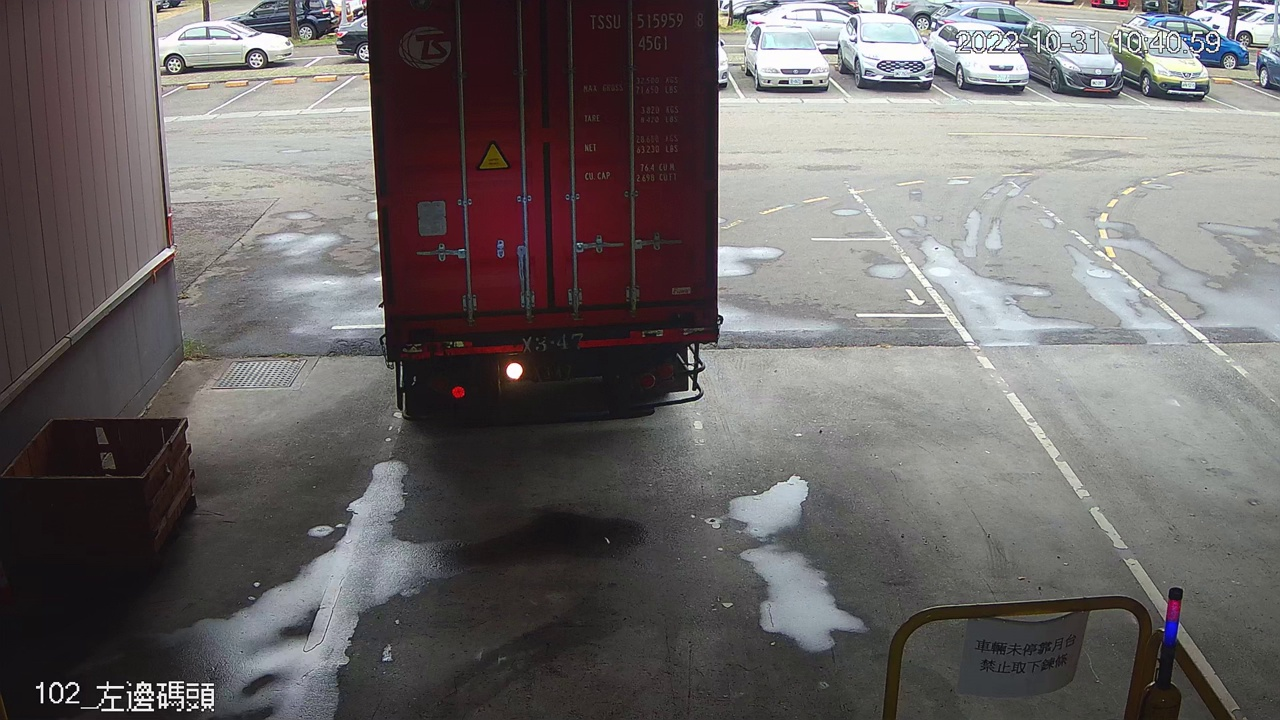container: (583, 5, 709, 56)
